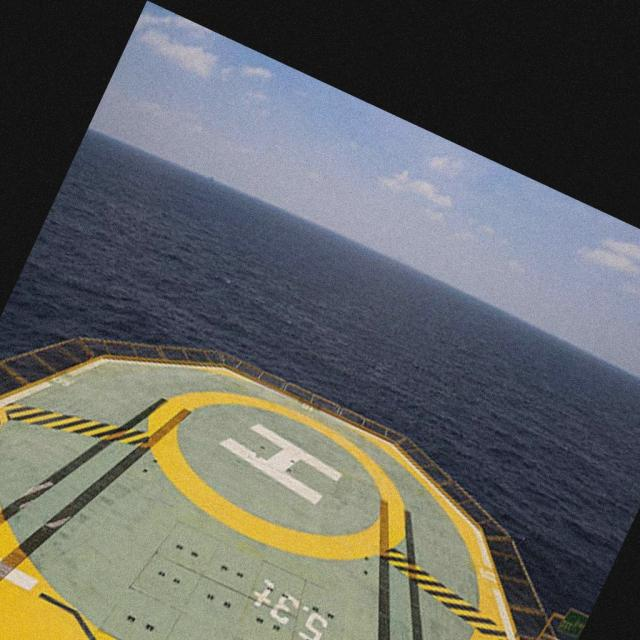helipad: (137, 384, 411, 564)
